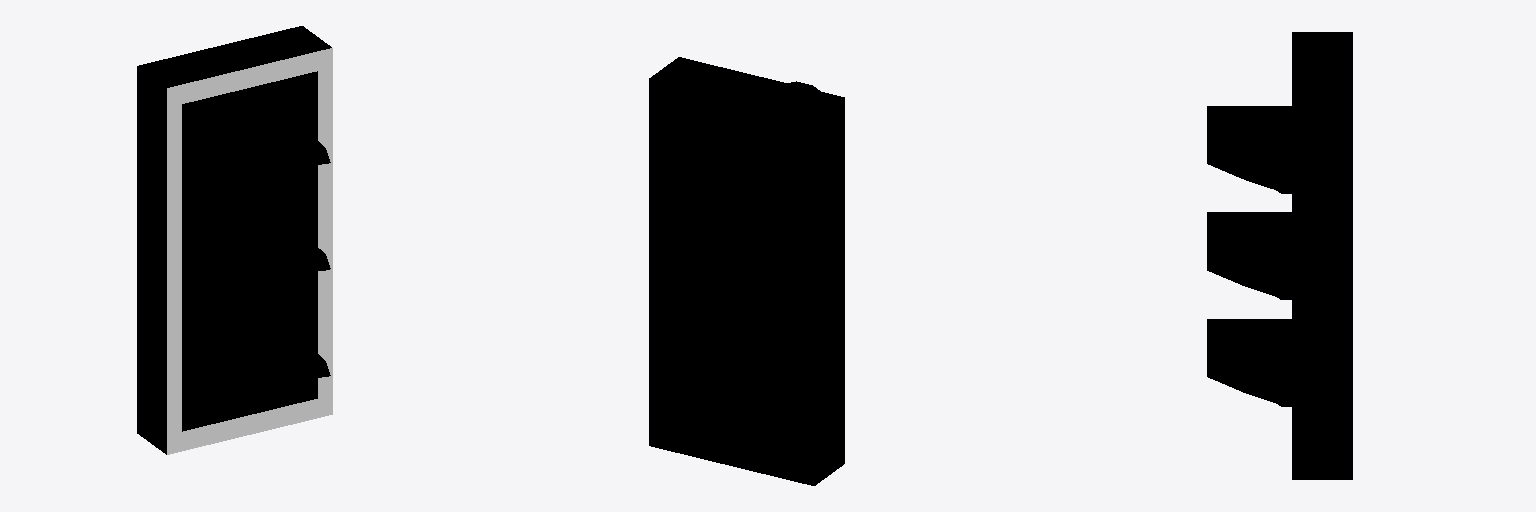
File: traffic_light_head.obj
The picture shows the model from 3 angles: view 1: azimuth 30°, elevation 25°; view 2: azimuth 150°, elevation 25°; view 3: azimuth 270°, elevation 25°; orthographic projection.
Visible parts, largest first — view 1: Backplate, TopHood, BottomHood, MiddleHood; view 2: Backplate; view 3: Backplate, MiddleHood, BottomHood, TopHood.
Boxes of the visible parts, x1=… form: Backplate: x1=137, y1=26, x2=332, y2=454; TopHood: x1=212, y1=104, x2=330, y2=189; BottomHood: x1=212, y1=317, x2=330, y2=402; MiddleHood: x1=212, y1=210, x2=330, y2=295; Backplate: x1=649, y1=57, x2=844, y2=485; Backplate: x1=1292, y1=32, x2=1352, y2=479; MiddleHood: x1=1207, y1=212, x2=1291, y2=299; BottomHood: x1=1207, y1=319, x2=1291, y2=406; TopHood: x1=1207, y1=106, x2=1291, y2=193.
Size of the model in its own units: 0.5211 by 1.1 by 0.3975.